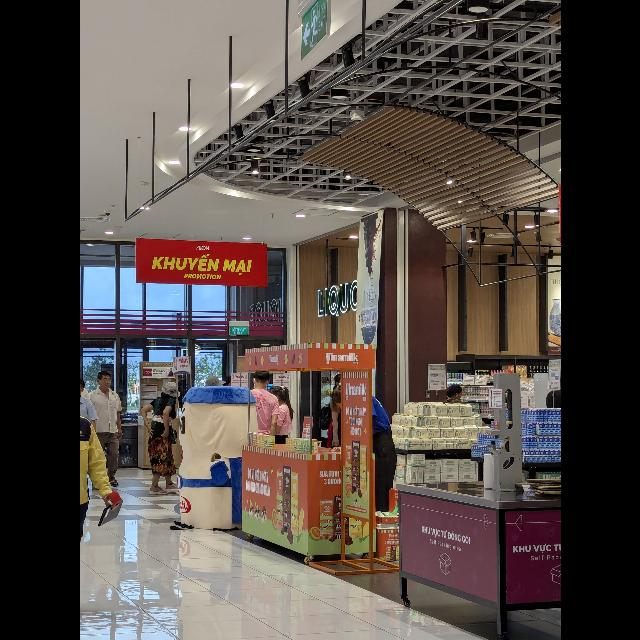exit: (299, 1, 329, 62)
